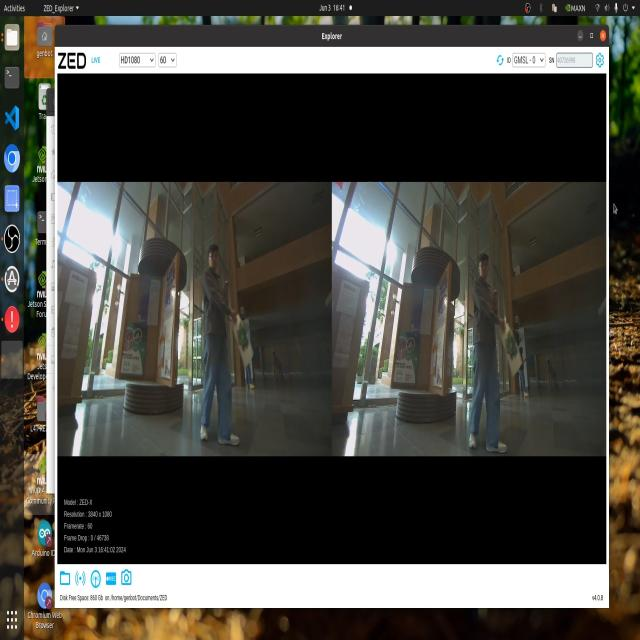green: (234, 321, 253, 362), (505, 328, 519, 361)
